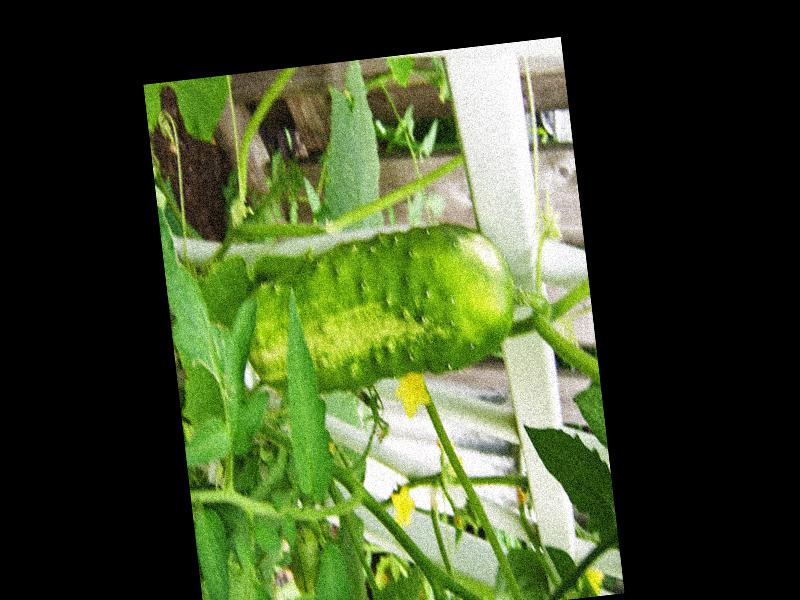Cucumber: (238, 218, 522, 394)
